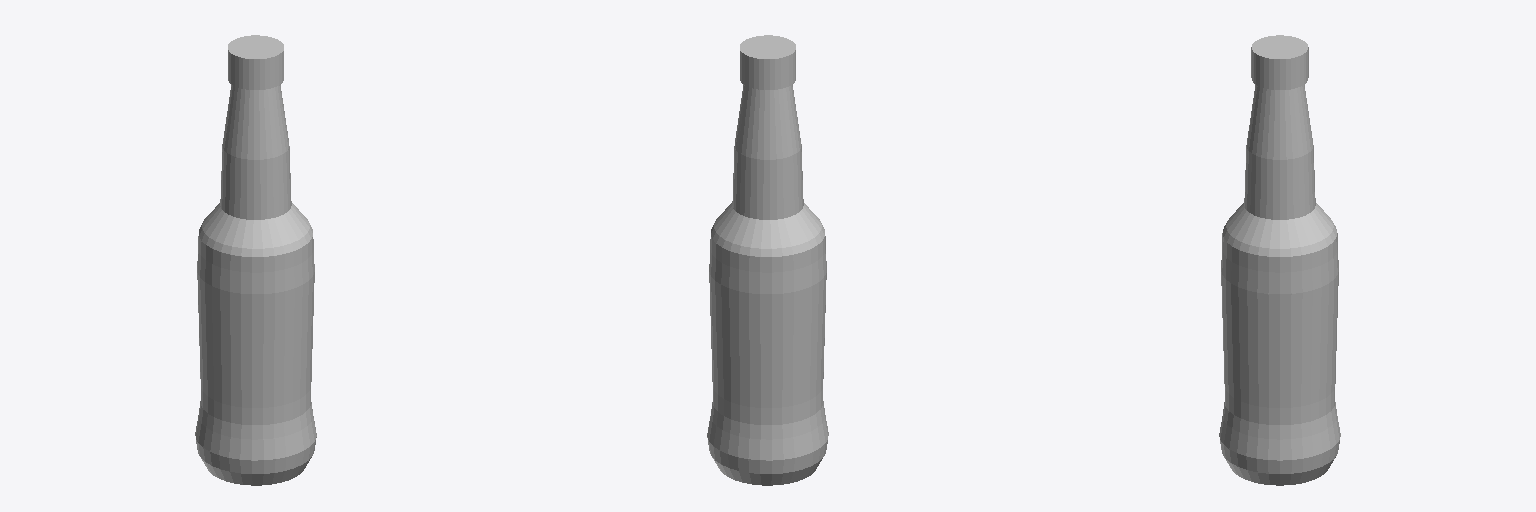
The model's file is bottle.obj.
3 views of the same model, side by side, from view 1: azimuth 30°, elevation 25°; view 2: azimuth 150°, elevation 25°; view 3: azimuth 270°, elevation 25° (orthographic).
Parts seen in each view (by area): view 1: Cylinder; view 2: Cylinder; view 3: Cylinder.
Part boxes in pixels (left/top/right/bottom): Cylinder: left=195, top=35, right=316, bottom=485; Cylinder: left=707, top=35, right=828, bottom=485; Cylinder: left=1219, top=35, right=1340, bottom=485.
Bounding box in the file's own units: 0.4737 × 1.79 × 0.4737.